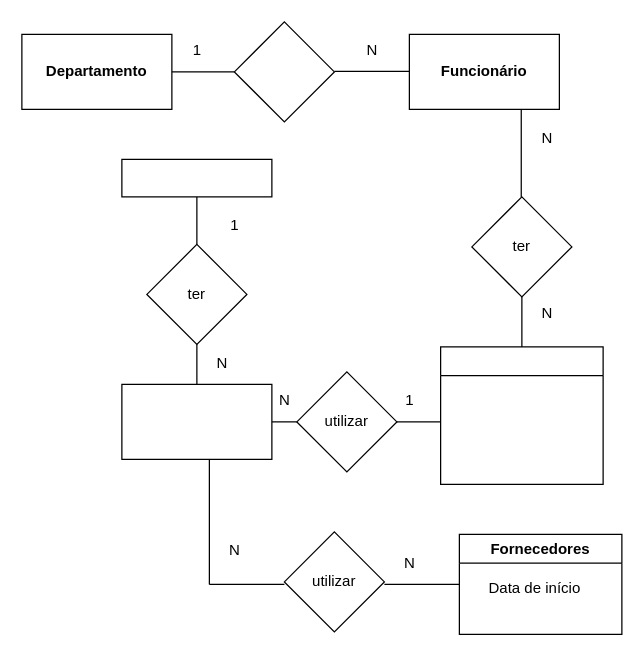
Some shapes in this 644 by 656 pixel diagram are drawn without their labels. Each missing label, with the centre of its shape:
"Depósito" belongs at (196,177).
"estar" belongs at (283,71).
"Peças" belongs at (196,421).
"Projeto" belongs at (521,415).
